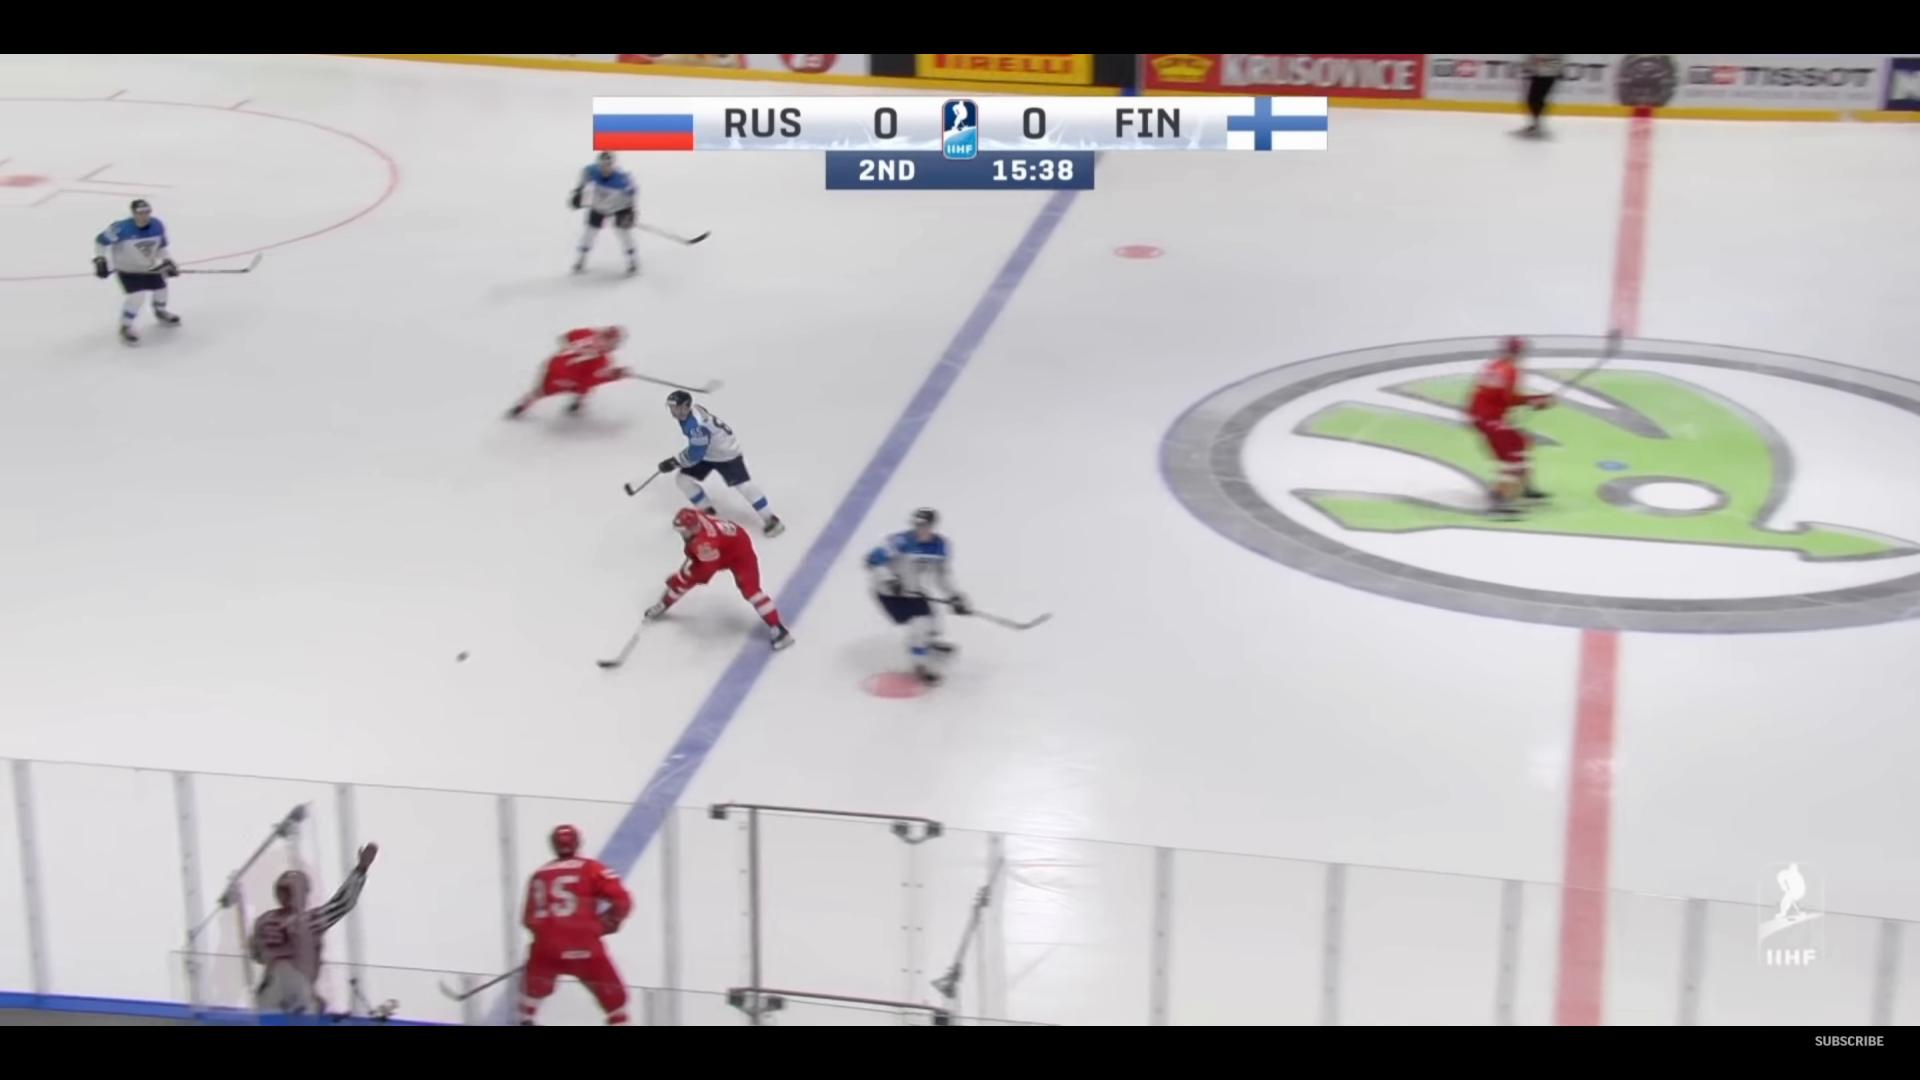puck: (455, 651, 468, 661)
